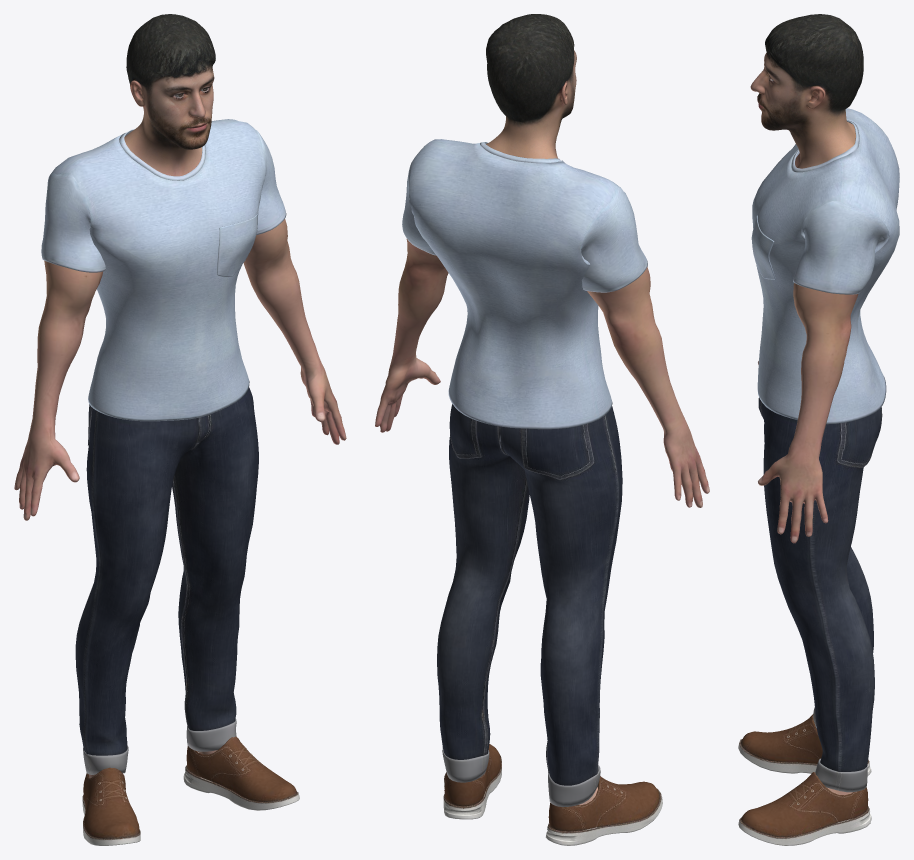
File: after.glb
The picture shows the model from 3 angles, left to right: view 1: azimuth 30°, elevation 25°; view 2: azimuth 150°, elevation 25°; view 3: azimuth 270°, elevation 25°; orthographic projection.
Visible parts, largest first — view 1: outfit.Comparison, AvatarBody.Comparison, AvatarHead.Comparison; view 2: outfit.Comparison, AvatarBody.Comparison, AvatarHead.Comparison; view 3: outfit.Comparison, AvatarHead.Comparison, AvatarBody.Comparison.
Boxes of the visible parts, left/top/right/bottom form: outfit.Comparison: left=41, top=119, right=299, bottom=845; AvatarBody.Comparison: left=14, top=219, right=346, bottom=778; AvatarHead.Comparison: left=124, top=14, right=215, bottom=176; outfit.Comparison: left=402, top=139, right=662, bottom=845; AvatarBody.Comparison: left=375, top=239, right=709, bottom=805; AvatarHead.Comparison: left=486, top=14, right=576, bottom=158; outfit.Comparison: left=738, top=108, right=899, bottom=845; AvatarHead.Comparison: left=750, top=14, right=863, bottom=168; AvatarBody.Comparison: left=758, top=283, right=858, bottom=795.
Size of the model in its own units: 0.8049 by 1.92 by 0.3605.
10 materials, 7 textured.
